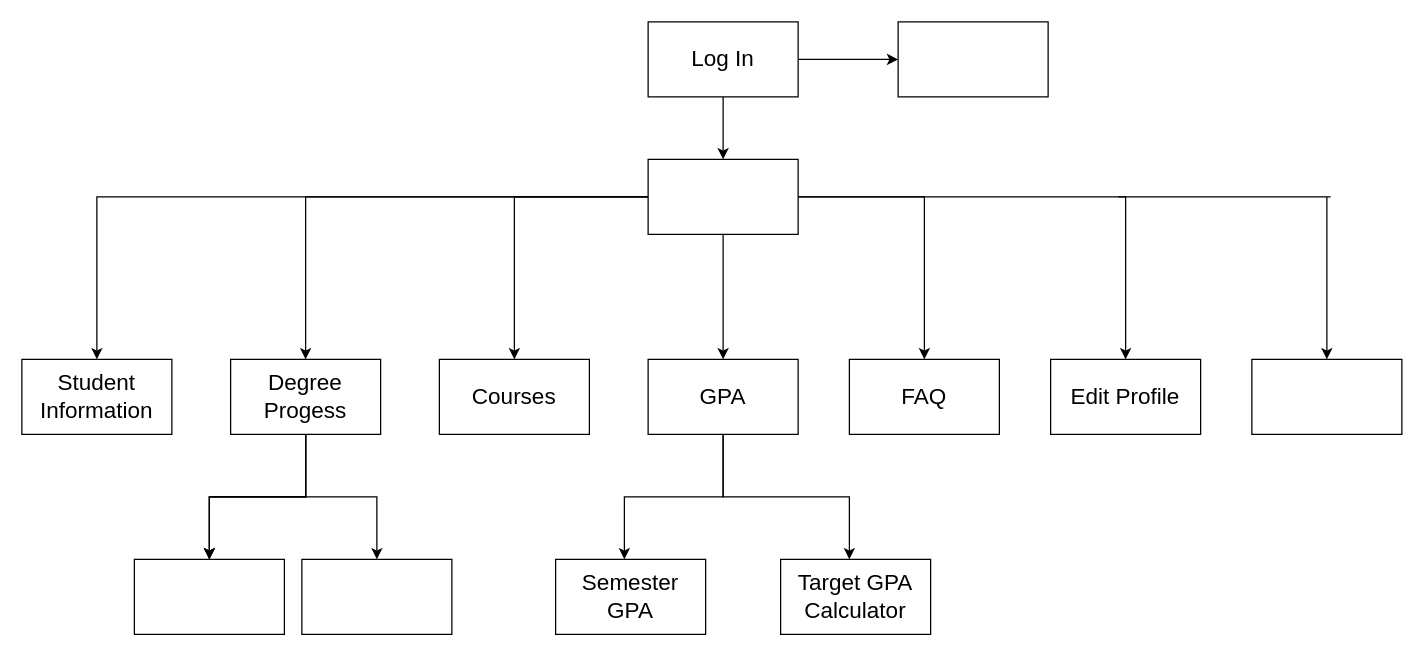
The diagram is 1424 pixels wide and 656 high, and some of its shapes have lost their labels. Here are the shapes that lost their labels. From the top down, the centre of each, then its label:
point 972,59: Sign Up
point 722,196: Home
point 1326,396: Department Contact
point 208,596: Requirements
point 376,596: Graduation Check
